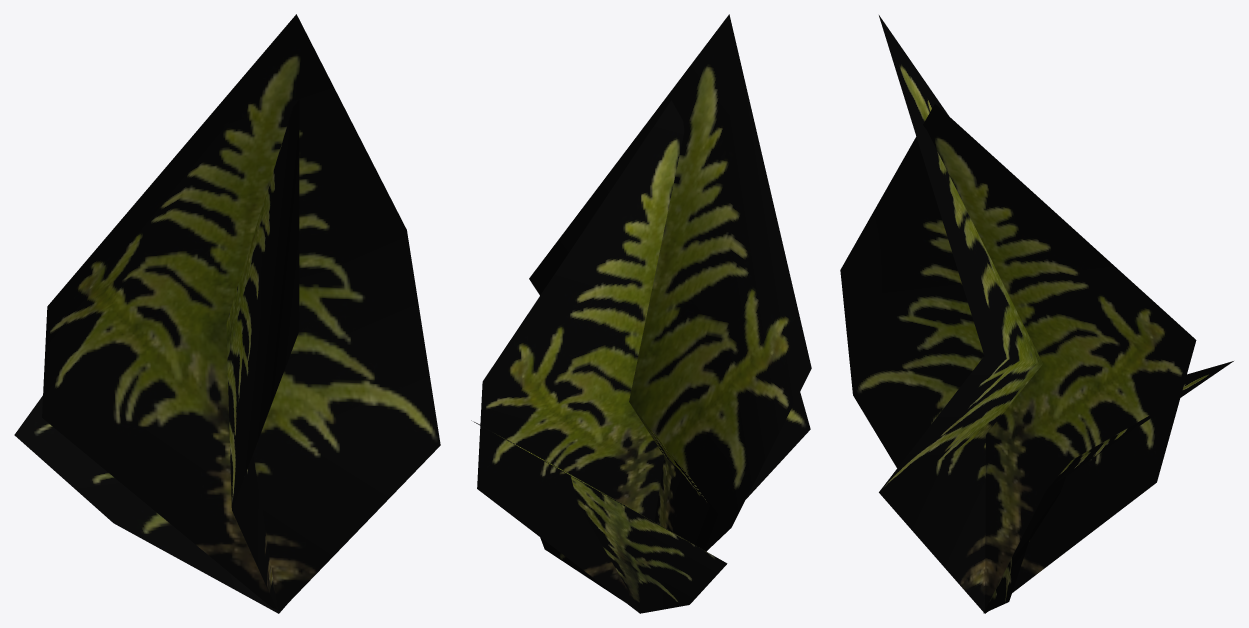
The model's file is moss_01_g.glb.
3 renders of one model, left to right at view 1: azimuth 30°, elevation 25°; view 2: azimuth 150°, elevation 25°; view 3: azimuth 270°, elevation 25°, orthographic. The views are drawn at different scales.
Visible parts, largest first — view 1: moss_01_a_LOD0; view 2: moss_01_a_LOD0; view 3: moss_01_a_LOD0.
Boxes of the visible parts, box(x1,y1,x2,y2) form: moss_01_a_LOD0: box(14, 14, 440, 613); moss_01_a_LOD0: box(471, 14, 811, 613); moss_01_a_LOD0: box(840, 15, 1233, 613).
Size of the model in its own units: 0.0142 by 0.026 by 0.0159.
Materials: 1 (1 with a texture image).
